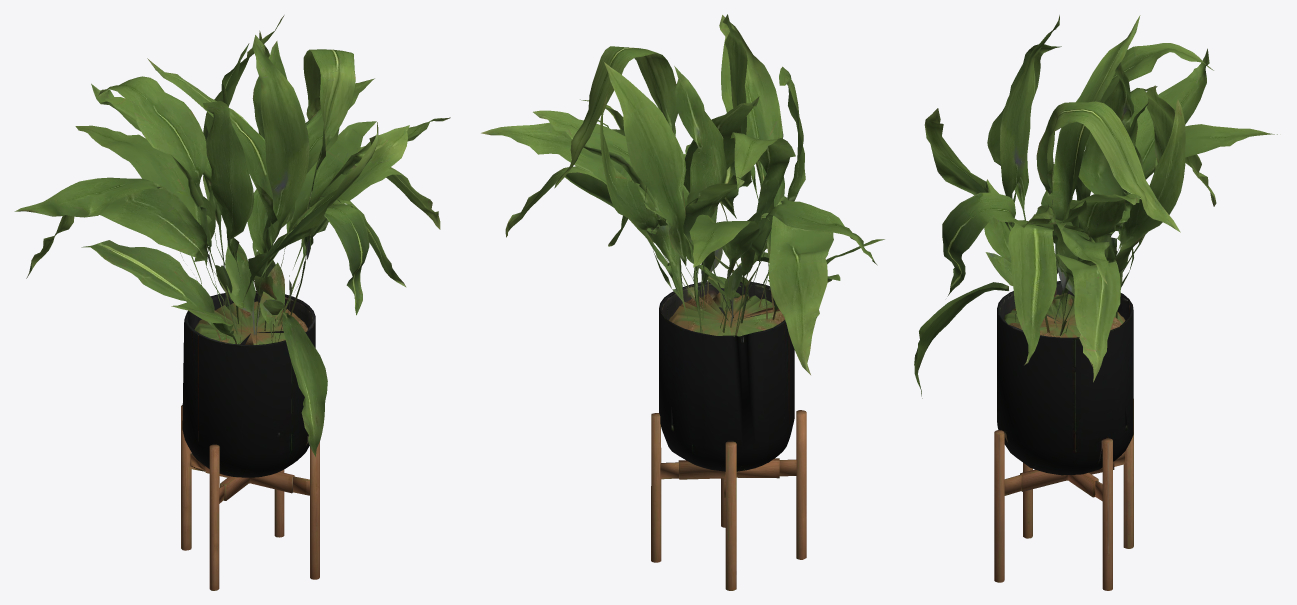
Rendered from plant2.min.glb.
The picture shows the model from 3 angles, left to right: view 1: azimuth 30°, elevation 25°; view 2: azimuth 150°, elevation 25°; view 3: azimuth 270°, elevation 25°; orthographic projection. The views are drawn at different scales.
Bounding box in the file's own units: 0.7778 × 0.9526 × 0.5776.
1 material, 1 textured.
